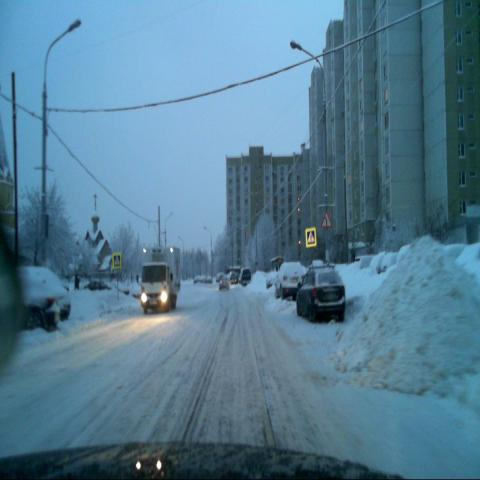1_11_1: (321, 209, 333, 229)
